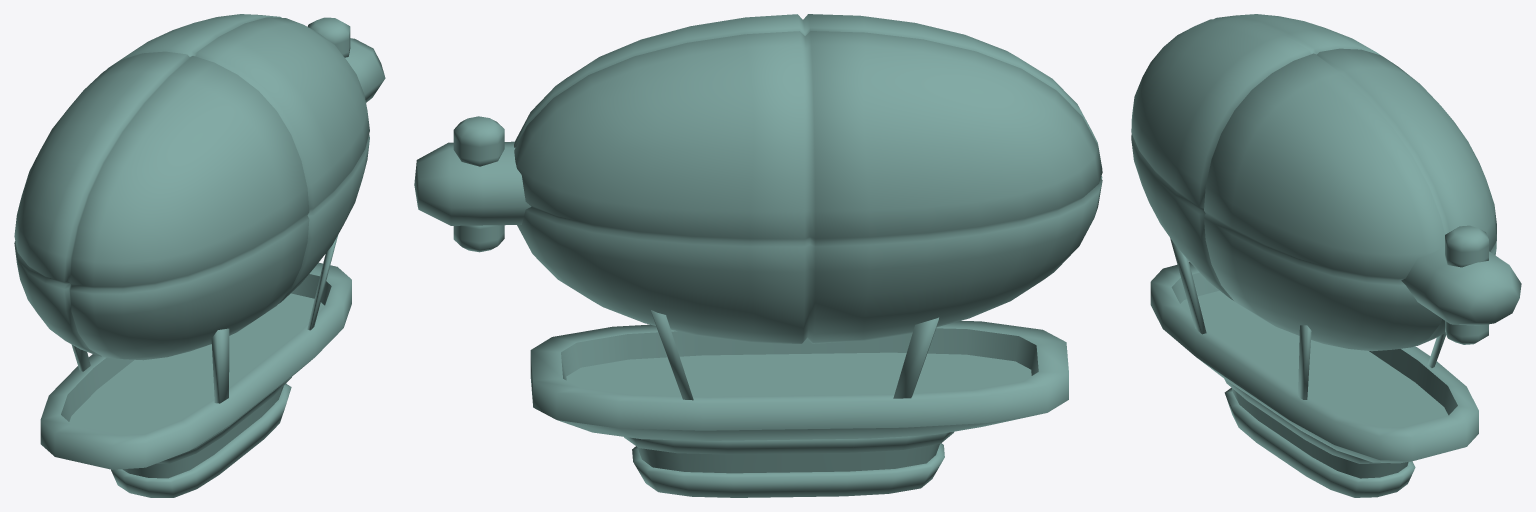
The model's file is blimp red.fbx.
The picture shows the model from 3 angles, left to right: view 1: azimuth 30°, elevation 25°; view 2: azimuth 150°, elevation 25°; view 3: azimuth 270°, elevation 25°; orthographic projection. The views are drawn at different scales.
Visible parts, largest first — view 1: blimp red; view 2: blimp red; view 3: blimp red.
Boxes of the visible parts, left/top/right/bottom form: blimp red: left=14, top=14, right=385, bottom=497; blimp red: left=414, top=14, right=1102, bottom=497; blimp red: left=1131, top=14, right=1521, bottom=497.
Size of the model in its own units: 3530 by 2834 by 2552.
